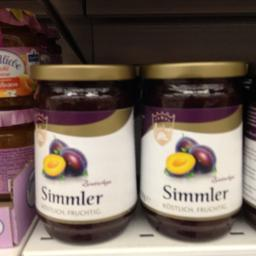jam: (28, 62, 138, 244), (138, 60, 246, 242)
